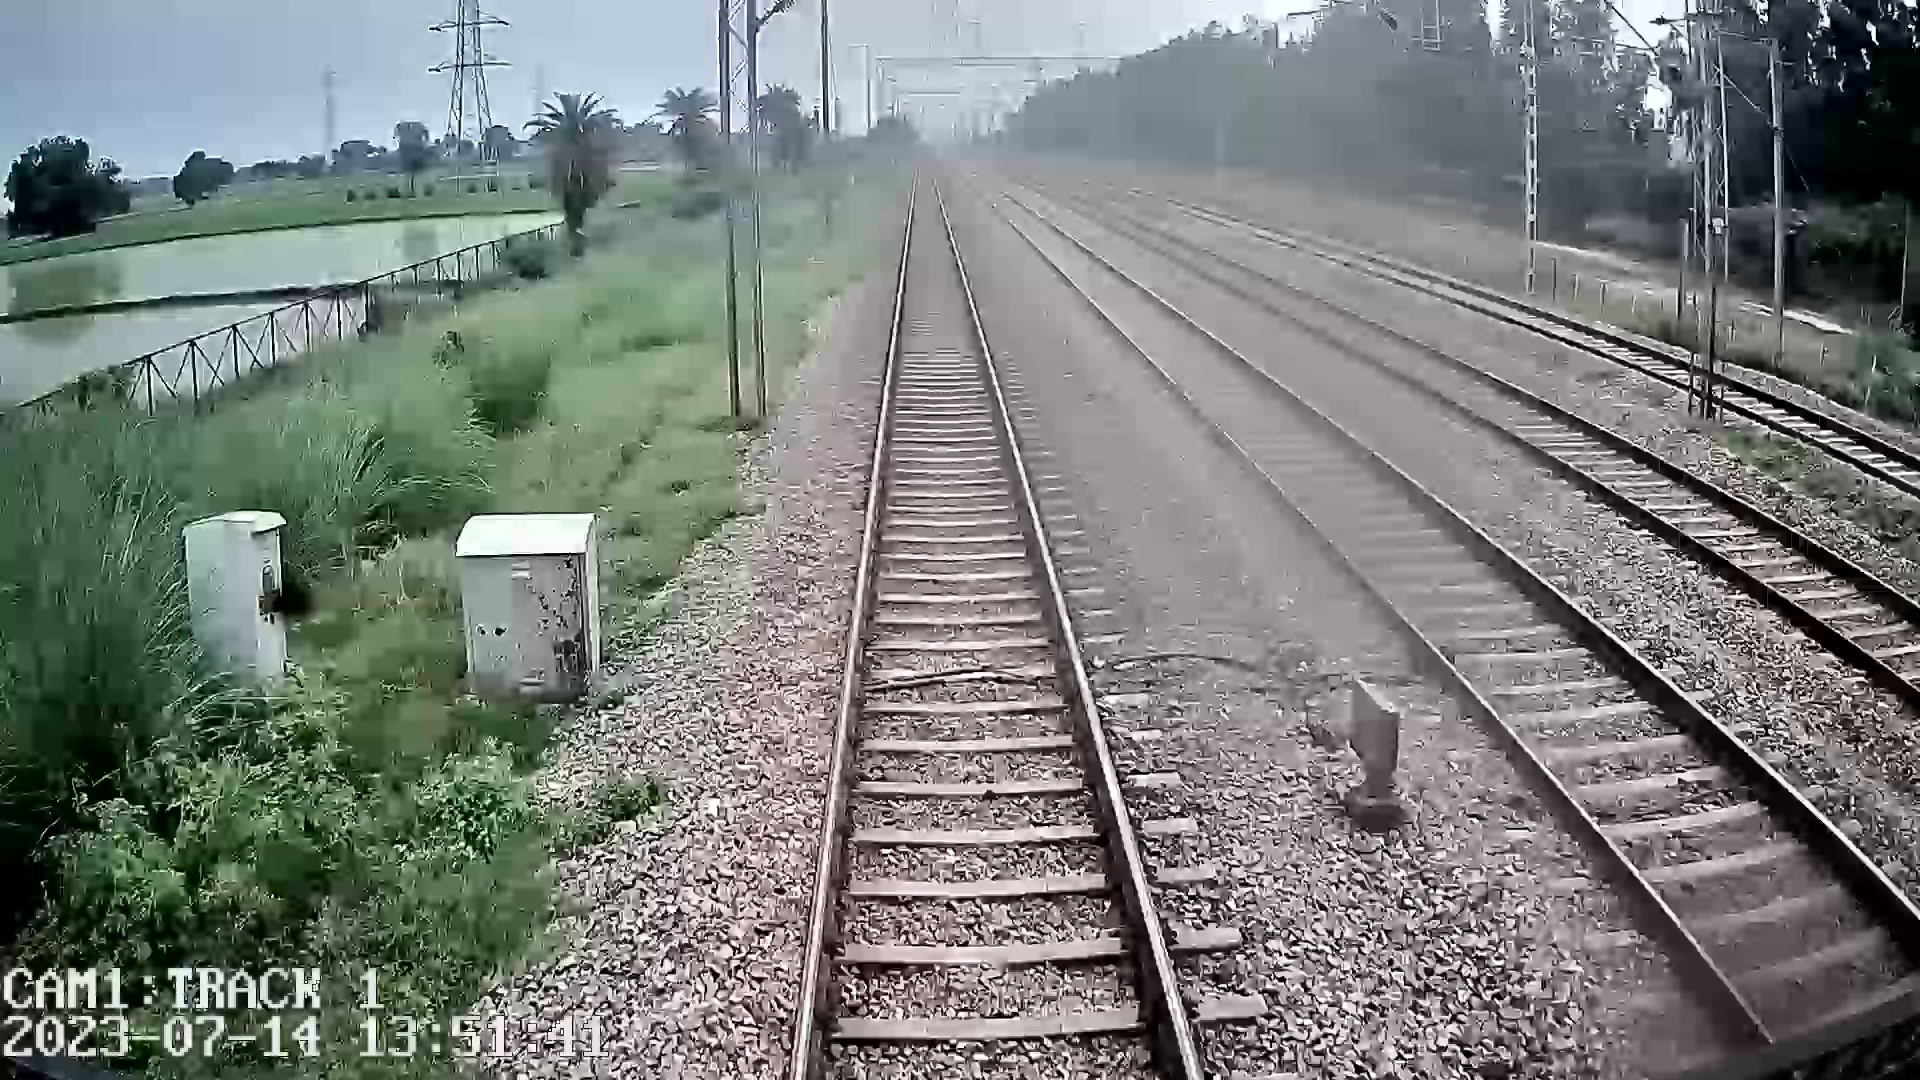track1: (799, 203, 1188, 1058)
track2: (1002, 215, 1909, 981)
track3: (1105, 227, 1913, 662)
track4: (1296, 240, 1912, 487)
